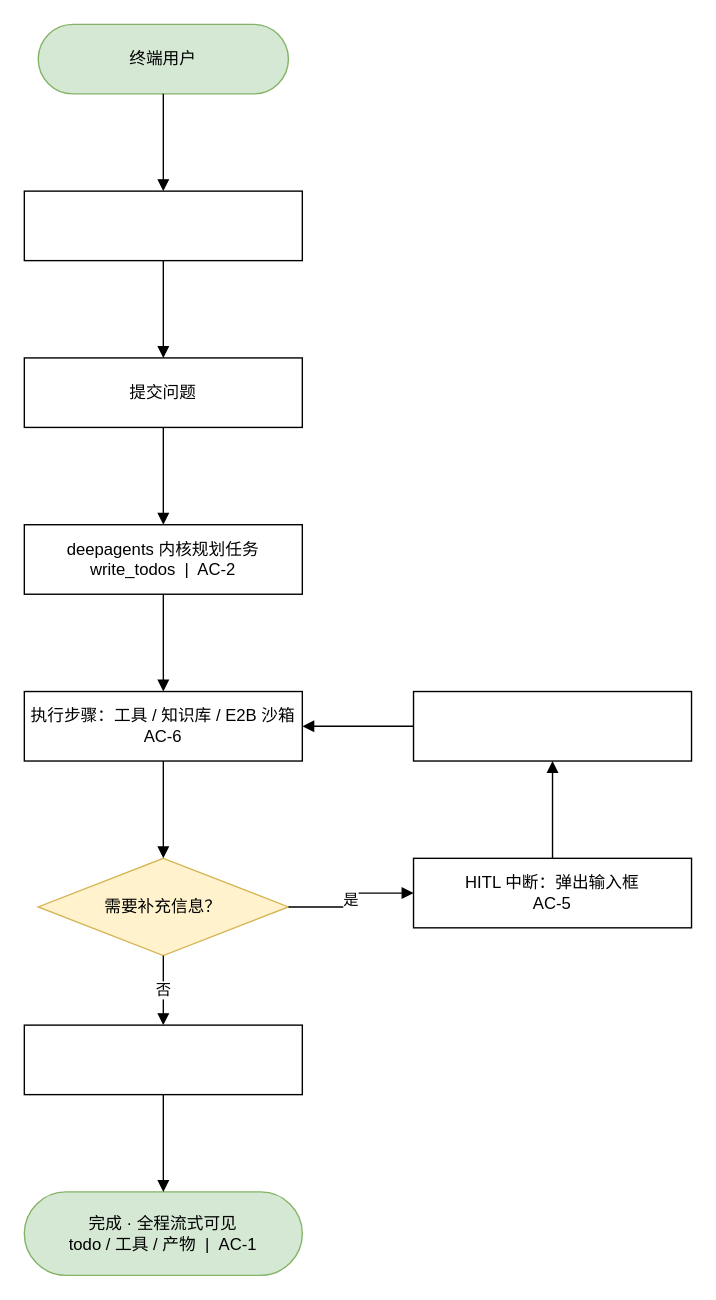
This 716x1300 diagram has some shape labels left out. The box of each missing label's shape, as (x1, y1, x2, y2) in pixels:
产出结果 / 产物文件: (23, 1024, 302, 1095)
用户补充信息: (412, 690, 692, 761)
聊天框勾选 1+ 个 Skill: (23, 190, 302, 261)
